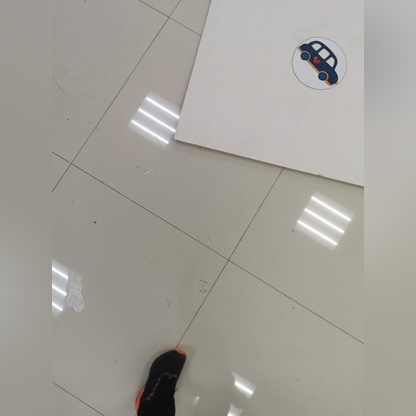car: (293, 30, 340, 94)
